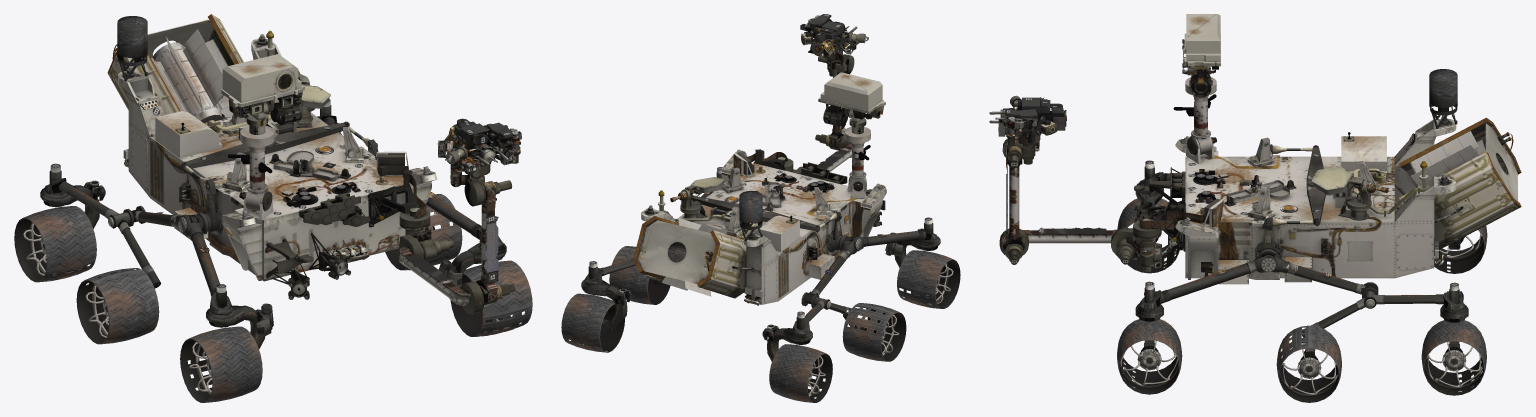
The model's file is Curiosity_opt.glb.
The picture shows the model from 3 angles, left to right: view 1: azimuth 30°, elevation 25°; view 2: azimuth 150°, elevation 25°; view 3: azimuth 270°, elevation 25°; orthographic projection. The views are drawn at different scales.
Parts seen in each view (by area): view 1: MSL; view 2: MSL; view 3: MSL.
Part boxes in pixels (<box>): MSL: <box>14,14,532,402</box>; MSL: <box>561,14,960,402</box>; MSL: <box>989,14,1521,402</box>.
Bounding box in the file's own units: 2.78 × 2.22 × 3.94.
9 materials, 8 textured.
